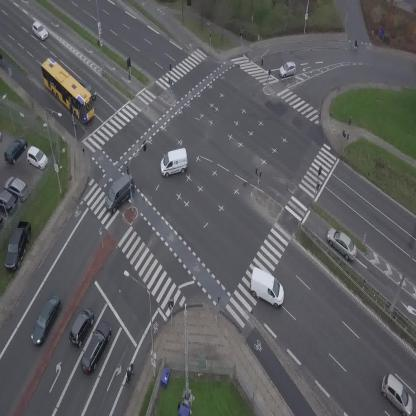bicycle: (125, 362, 135, 385), (349, 38, 362, 52), (0, 52, 5, 66)
bus: (33, 54, 103, 125)
car: (76, 318, 117, 377), (26, 293, 64, 347), (320, 224, 363, 264), (64, 304, 99, 349), (29, 19, 50, 42), (79, 78, 99, 101), (279, 61, 296, 78)
lorry: (242, 266, 292, 310), (97, 171, 143, 216), (157, 147, 191, 179)
